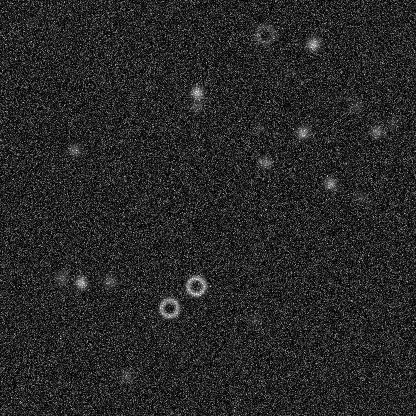Ring: (157, 295, 181, 319), (183, 273, 207, 297), (253, 21, 277, 45)
Spot: (383, 114, 399, 130), (352, 187, 368, 203), (118, 367, 134, 383), (72, 274, 88, 290), (250, 120, 266, 136), (188, 84, 204, 100), (322, 175, 338, 191), (256, 154, 272, 170), (294, 124, 310, 140), (280, 62, 296, 78), (100, 273, 116, 289), (246, 313, 262, 329), (367, 123, 383, 139), (53, 269, 69, 285), (21, 15, 37, 31), (304, 35, 320, 51), (188, 98, 204, 114), (347, 97, 363, 113), (66, 141, 82, 157)
